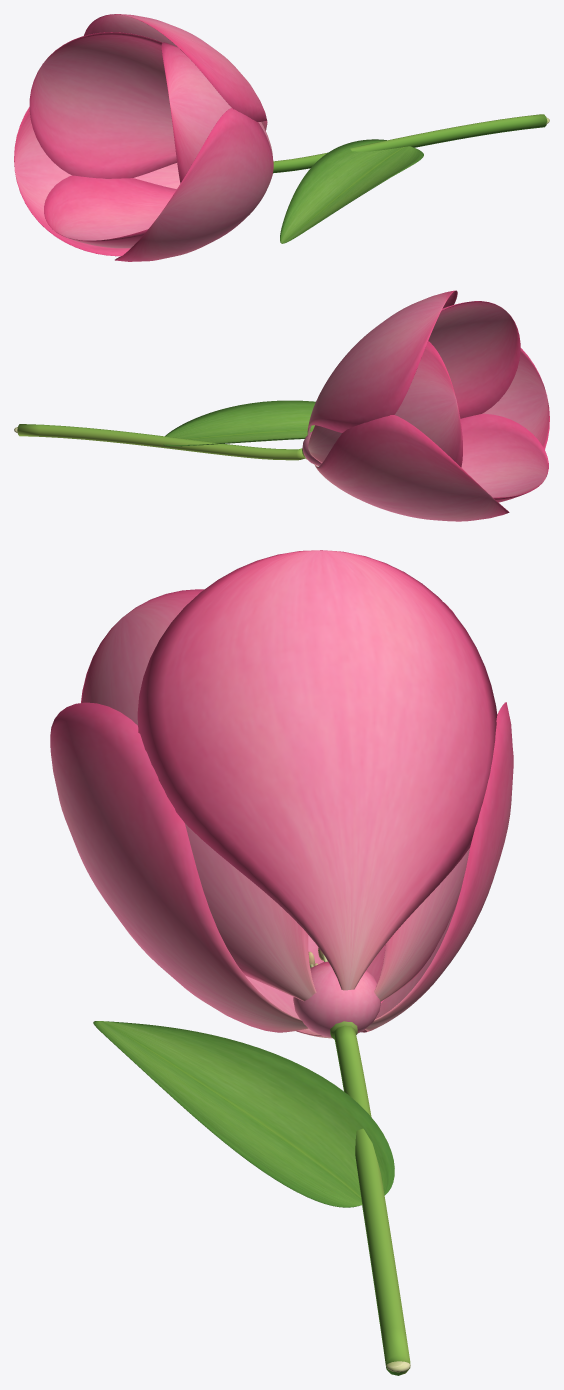
Rendered from NP_Tulip_Harvest.fbx.
The picture shows the model from 3 angles, top to bottom: view 1: azimuth 30°, elevation 25°; view 2: azimuth 150°, elevation 25°; view 3: azimuth 270°, elevation 25°; orthographic projection. The views are drawn at different scales.
Visible parts, largest first — view 1: NP_Tulip_Harvest; view 2: NP_Tulip_Harvest; view 3: NP_Tulip_Harvest.
Part boxes in pixels (x1,y1,x2,y2): NP_Tulip_Harvest: (14,14,549,261); NP_Tulip_Harvest: (14,290,549,521); NP_Tulip_Harvest: (50,550,513,1375).
Bounding box in the file's own units: 89.74 × 37.76 × 36.66.
